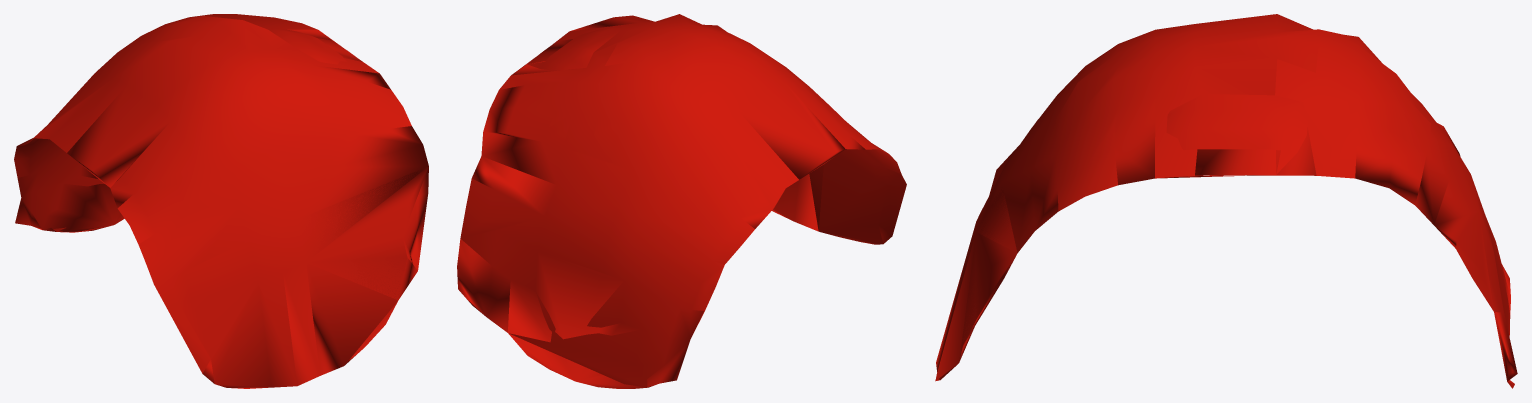
The model's file is Nao6_Right_Arm_Shoulderpad.obj.
The picture shows the model from 3 angles, left to right: view 1: azimuth 30°, elevation 25°; view 2: azimuth 150°, elevation 25°; view 3: azimuth 270°, elevation 25°; orthographic projection. The views are drawn at different scales.
Visible parts, largest first — view 1: Nao6_Right_Arm_Shoulderpad; view 2: Nao6_Right_Arm_Shoulderpad; view 3: Nao6_Right_Arm_Shoulderpad.
Part boxes in pixels (x1,y1,x2,y2): Nao6_Right_Arm_Shoulderpad: [14, 14, 428, 388]; Nao6_Right_Arm_Shoulderpad: [457, 14, 906, 388]; Nao6_Right_Arm_Shoulderpad: [935, 14, 1517, 388].
Size of the model in its own units: 0.4183 by 0.3769 by 0.5588.
